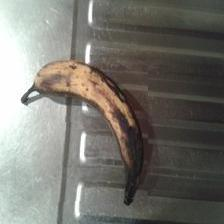Banana Rotten: (28, 56, 148, 204)
